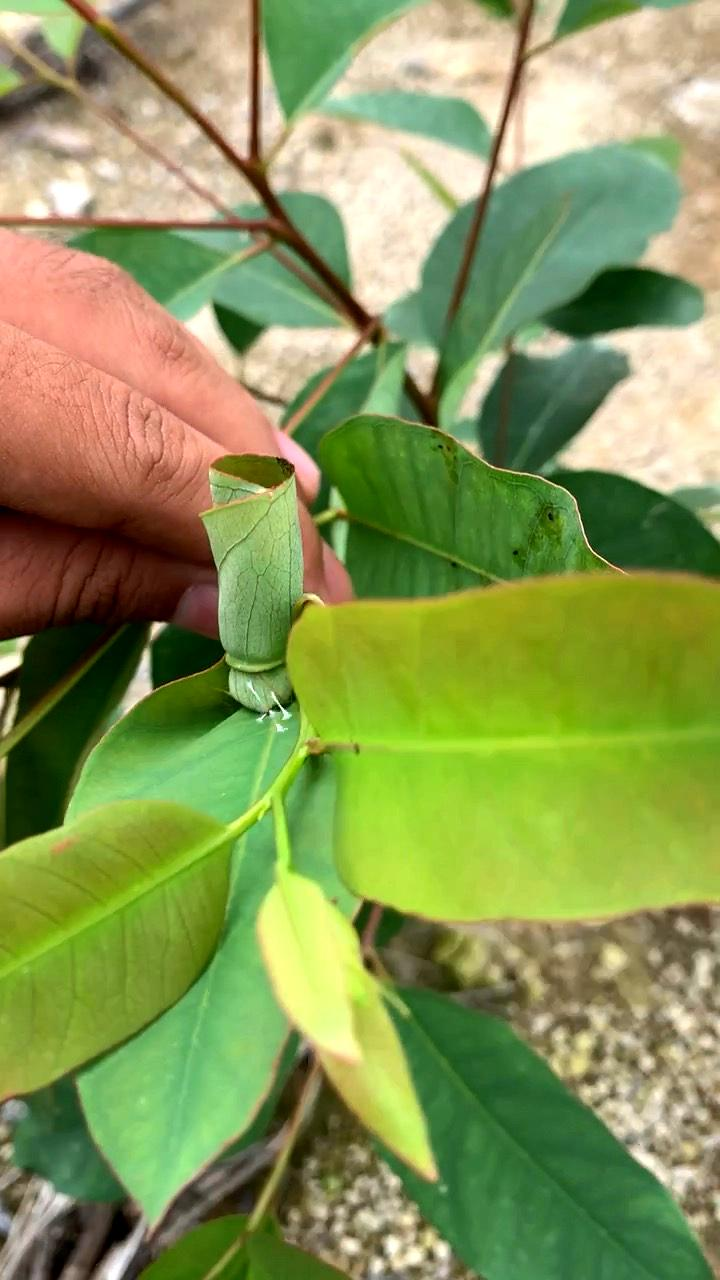Leaf Roller - Leaf: (168, 448, 353, 672)
